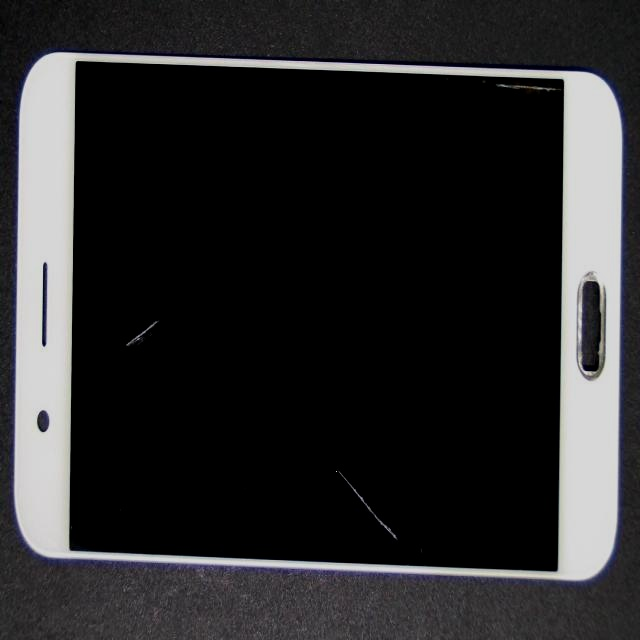scratch: (176, 203, 495, 640), (58, 167, 174, 508)
